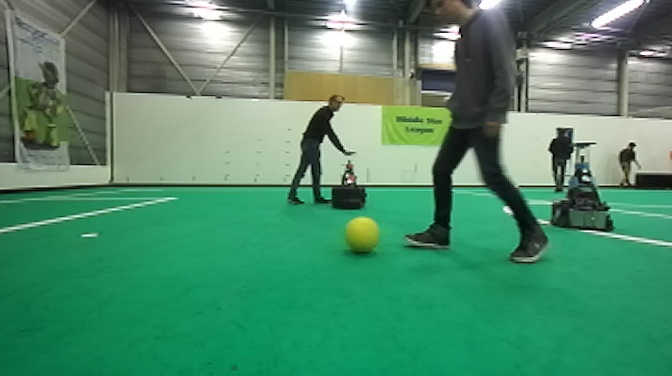ball: (341, 215, 381, 257)
human: (402, 1, 552, 267), (286, 94, 358, 207), (548, 129, 574, 194), (616, 138, 644, 189)
robot: (550, 140, 615, 234), (331, 150, 368, 211)
